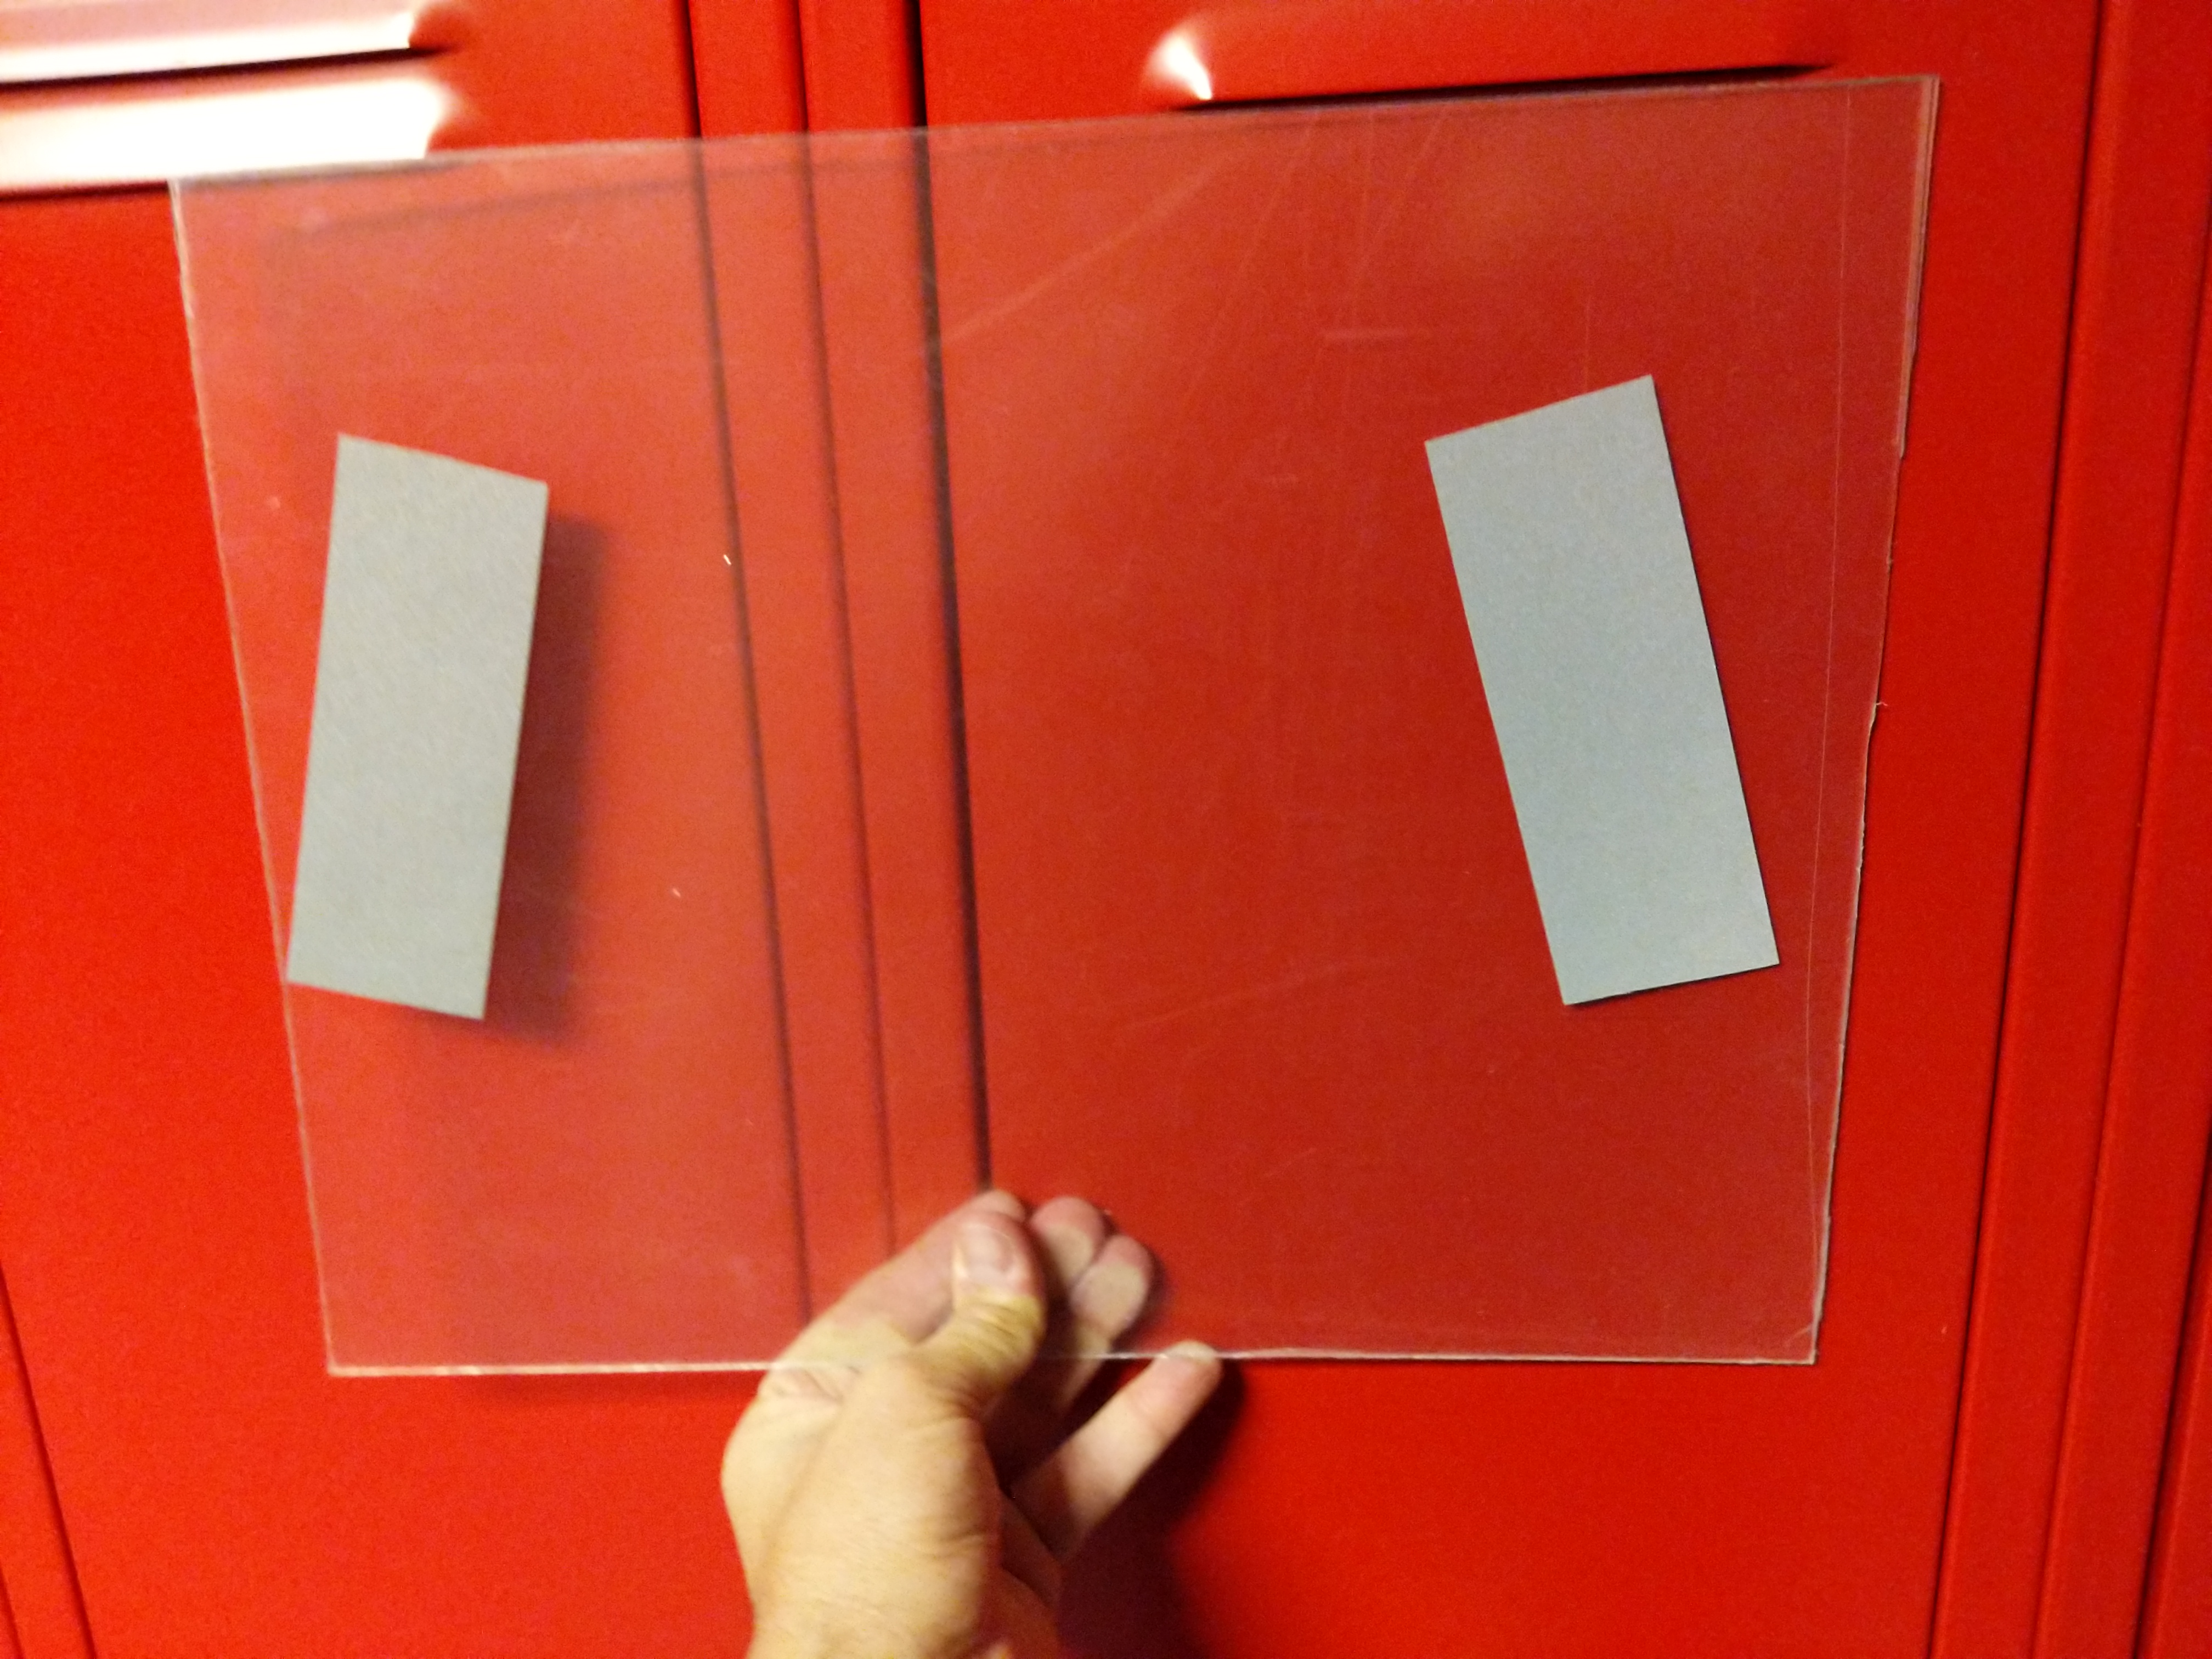vision_target: (279, 371, 1794, 1028)
